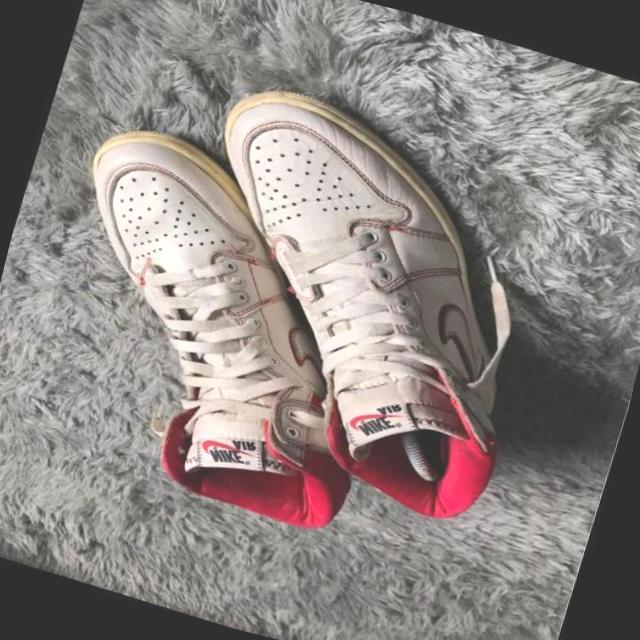nike_original_jordan: (123, 66, 589, 538), (2, 111, 437, 546)
